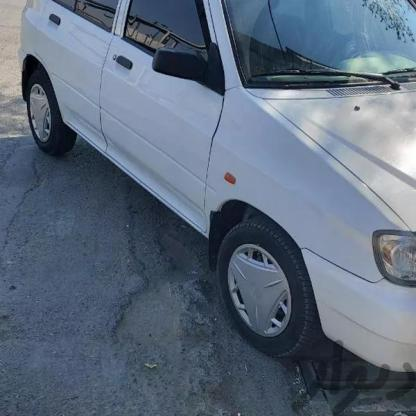Car: (0, 0, 416, 377)
